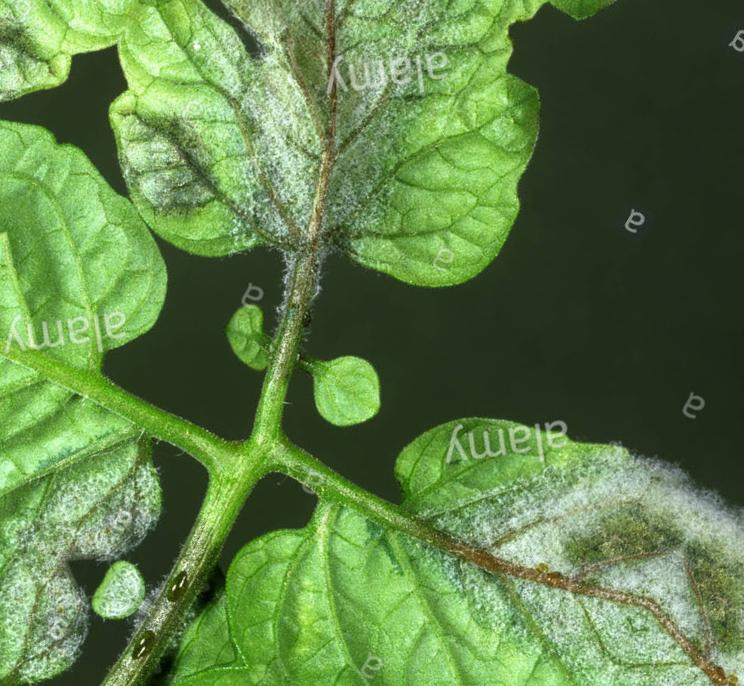Tomato leaf late blight: (157, 258, 728, 686), (46, 0, 601, 384), (0, 120, 322, 598)
